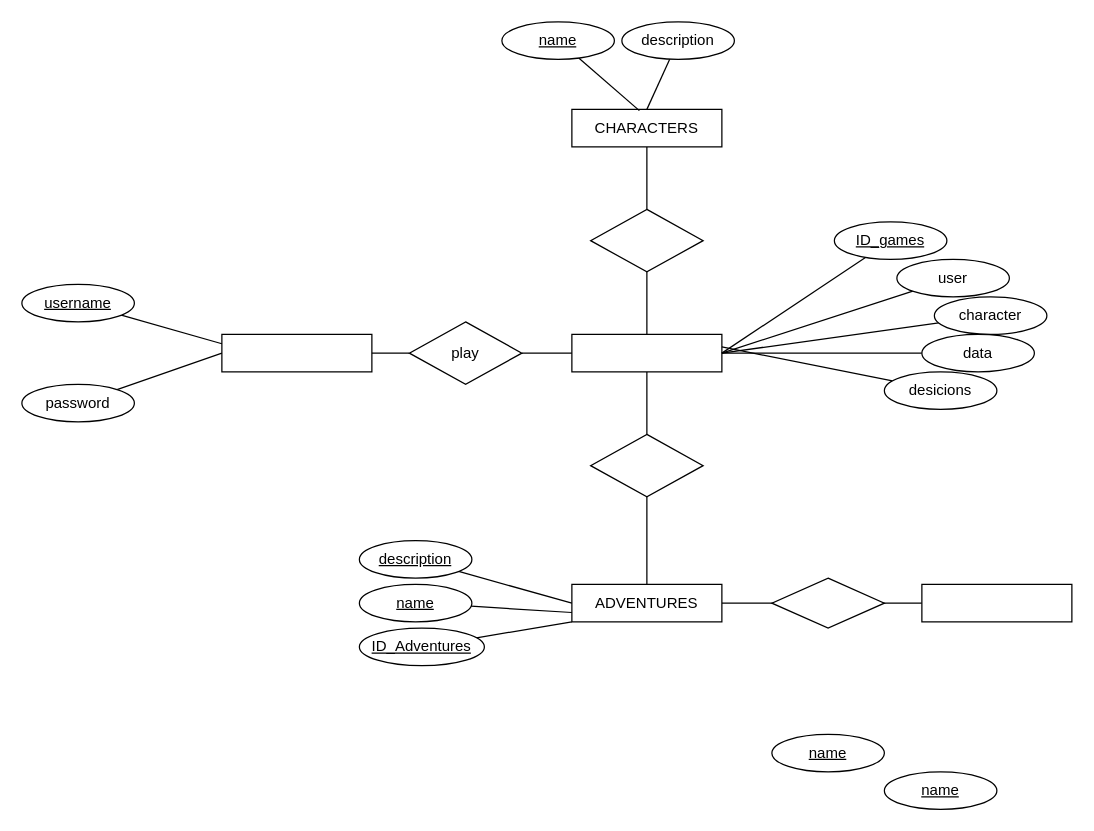
This 1094x831 diagram has some shape labels left out. The centre of each missing label's shape, as x and y in pixels:
"choose" goes at pixel 646 465.
"DECISIONS" goes at pixel 996 602.
"GAMES" goes at pixel 646 352.
"select" goes at pixel 646 240.
"take" goes at pixel 827 602.
"USERS" goes at pixel 296 352.
